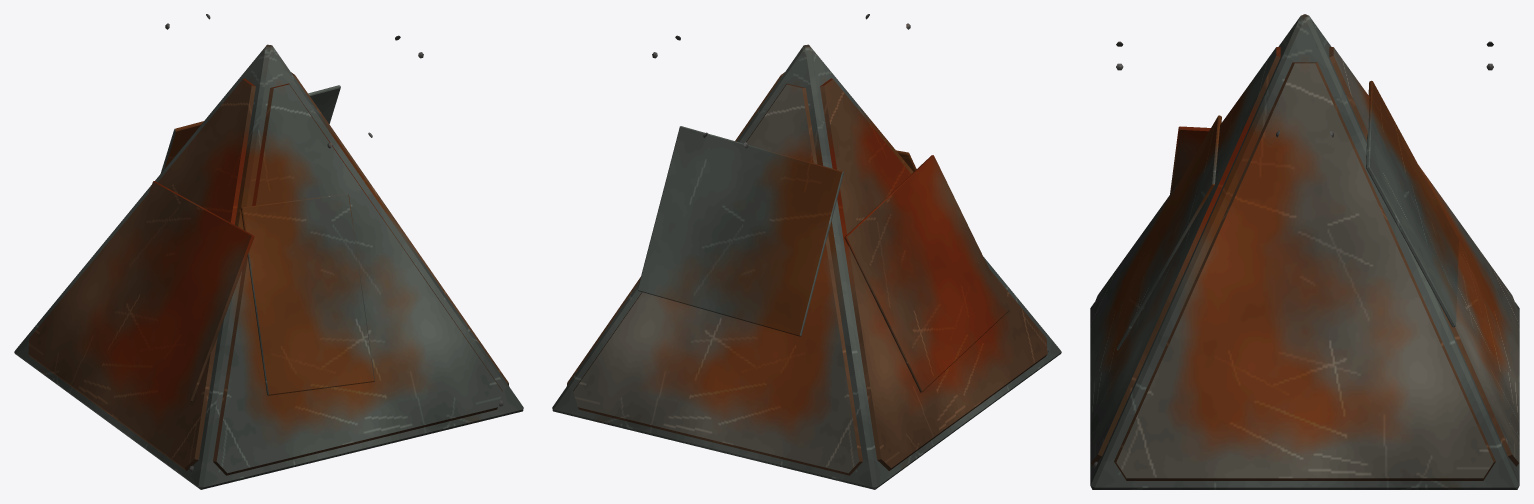
3 views of the same model, side by side, from view 1: azimuth 30°, elevation 25°; view 2: azimuth 150°, elevation 25°; view 3: azimuth 270°, elevation 25° (orthographic). The views are drawn at different scales.
Visible parts, largest first — view 1: R4B_Pyramid; view 2: R4B_Pyramid; view 3: R4B_Pyramid.
Part boxes in pixels (x1,y1,x2,y2): R4B_Pyramid: [14, 14, 523, 489]; R4B_Pyramid: [552, 14, 1061, 489]; R4B_Pyramid: [1090, 14, 1519, 489].
Bounding box in the file's own units: 0.4997 × 0.4988 × 0.4997.
4 materials, 4 textured.
